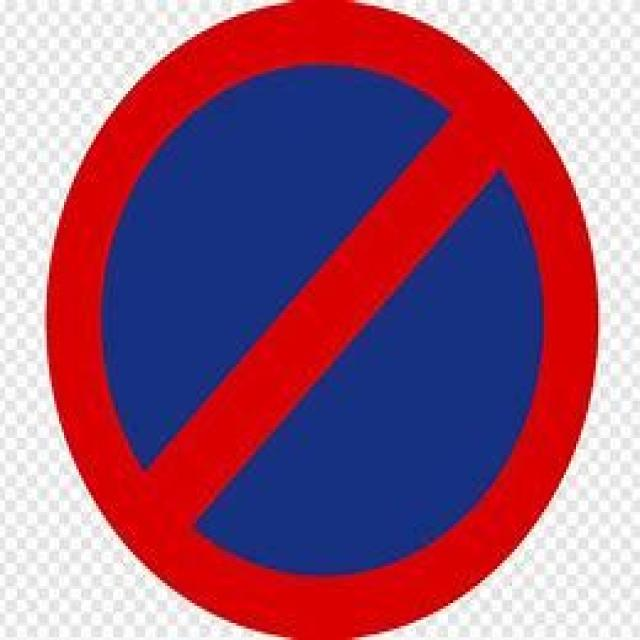do_not_enter: (44, 0, 594, 637)
